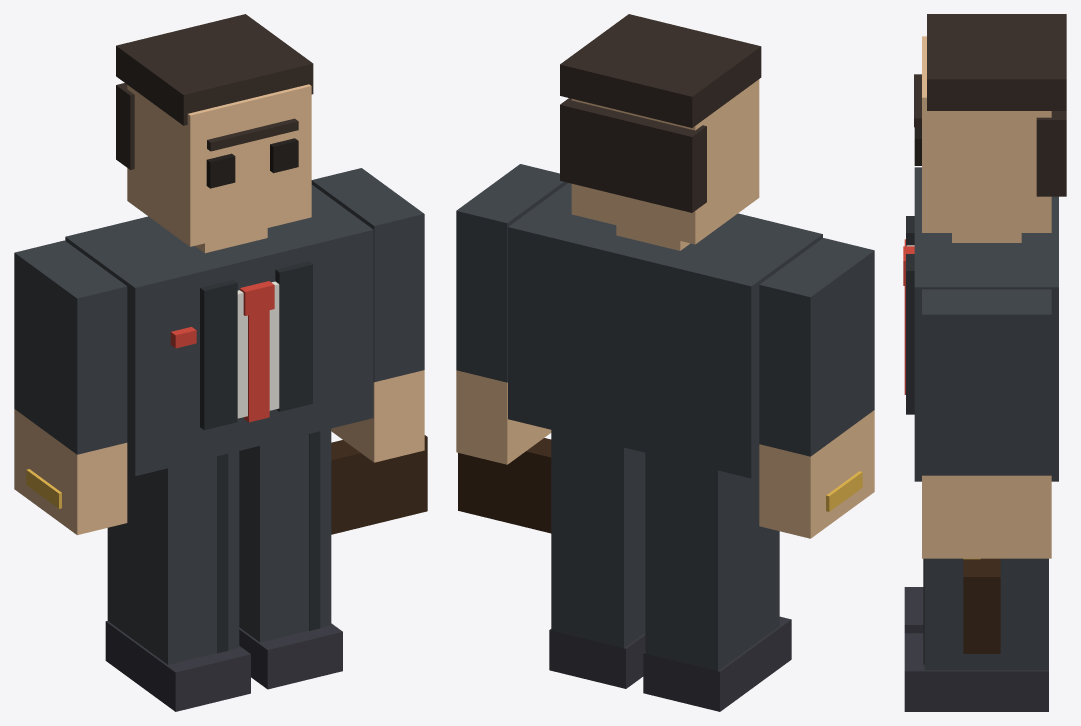
File: office__executive.glb
The picture shows the model from 3 angles, left to right: view 1: azimuth 30°, elevation 25°; view 2: azimuth 150°, elevation 25°; view 3: azimuth 270°, elevation 25°; orthographic projection. The views are drawn at different scales.
Visible parts, largest first — view 1: office__executive, rig_legL, rig_armL, rig_armR, rig_legR; view 2: office__executive, rig_armL, rig_legL, rig_armR, rig_legR; view 3: office__executive, rig_armR, rig_legR, rig_legL.
Boxes of the visible parts, x1,y1,x2,y2 form: office__executive: (65, 14, 373, 476); rig_legL: (105, 451, 250, 711); rig_armL: (14, 240, 127, 535); rig_armR: (311, 168, 427, 534); rig_legR: (239, 428, 342, 689); office__executive: (508, 14, 822, 478); rig_armL: (759, 238, 874, 538); rig_legL: (643, 453, 791, 711); rig_armR: (456, 164, 567, 533); rig_legR: (549, 430, 645, 688); office__executive: (903, 14, 1066, 481); rig_armR: (922, 289, 1051, 653); rig_legR: (904, 558, 1048, 711); rig_legL: (904, 587, 923, 633).
Bounding box in the file's own units: 1.79 × 2.76 × 0.655.
